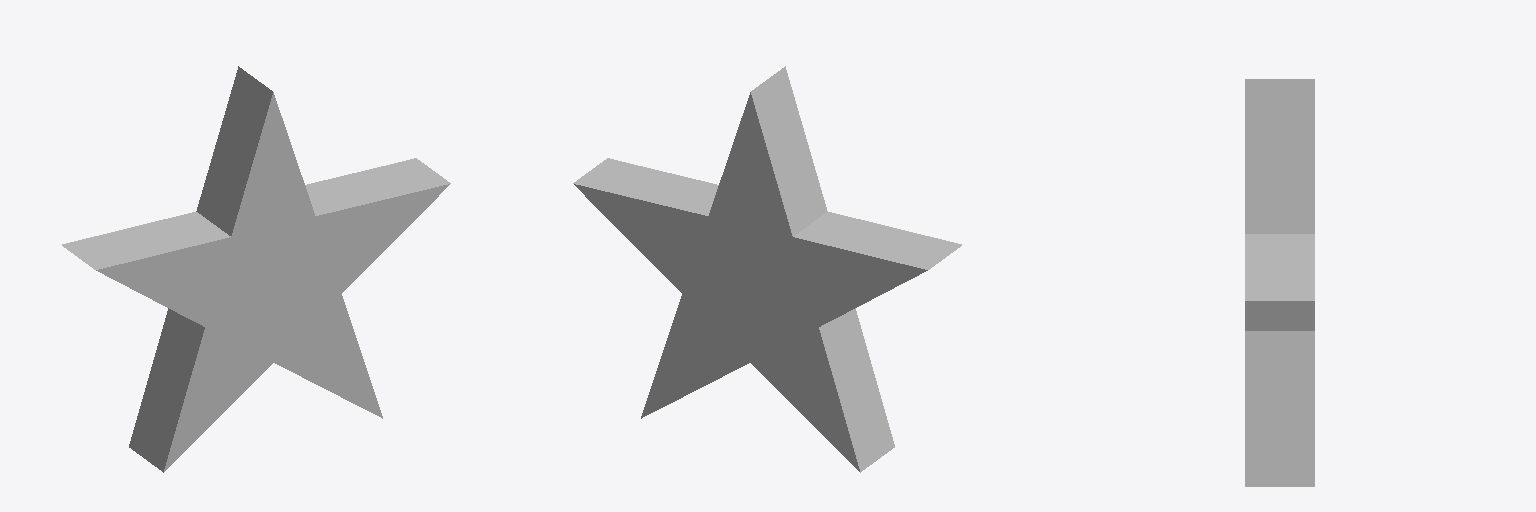
File: star.obj
3 views of the same model, side by side, from view 1: azimuth 30°, elevation 25°; view 2: azimuth 150°, elevation 25°; view 3: azimuth 270°, elevation 25° (orthographic).
Visible parts, largest first — view 1: 円; view 2: 円; view 3: 円.
Part boxes in pixels (left/top/right/bottom): 円: left=62, top=66, right=450, bottom=472; 円: left=573, top=66, right=961, bottom=472; 円: left=1245, top=79, right=1314, bottom=486.
Size of the model in its own units: 1.9 by 1.81 by 0.3234.